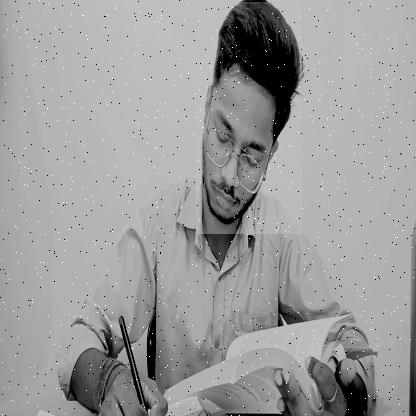Distracted: (196, 2, 302, 234)
